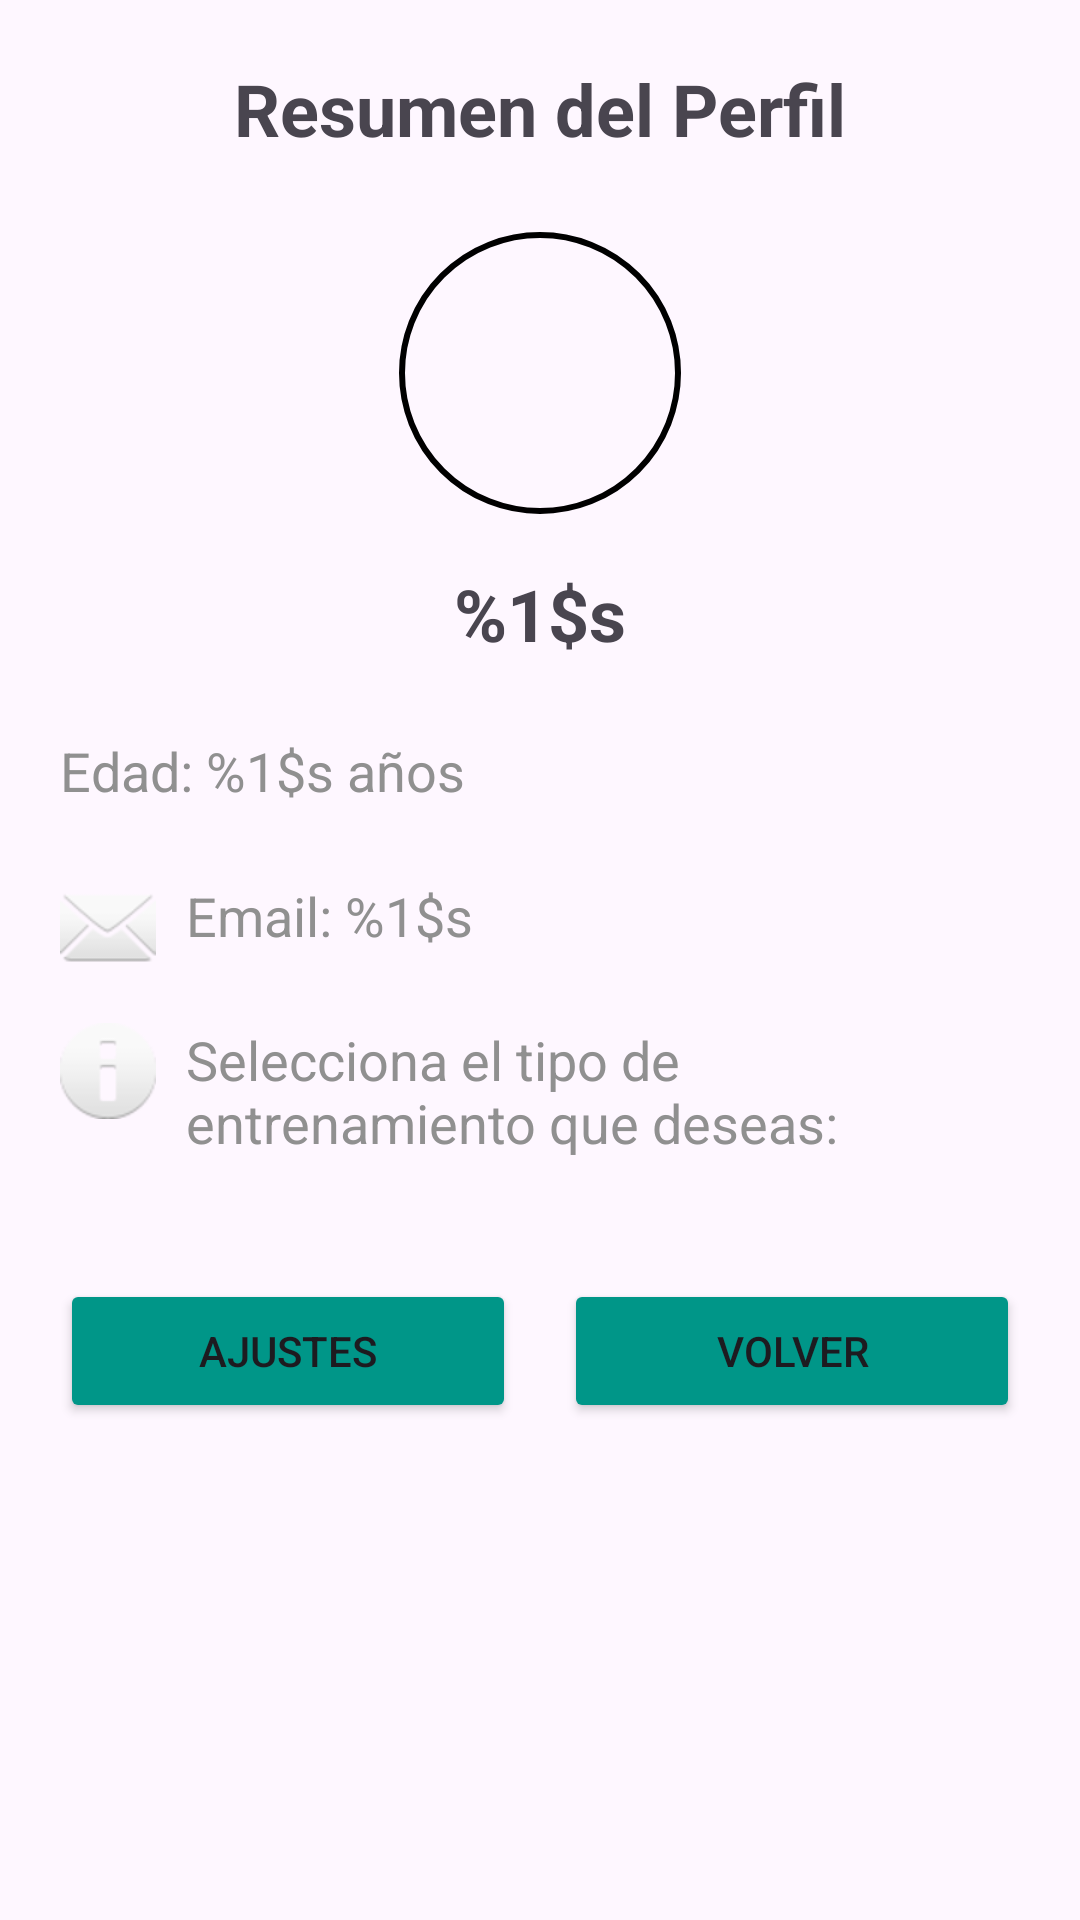

Locate icon controls on the screen. Image size 1080*1920, boxes as (x1=x1, y1=y1, x2=x2, y2=y2).
info: (x1=60, y1=1041, x2=156, y2=1119)
